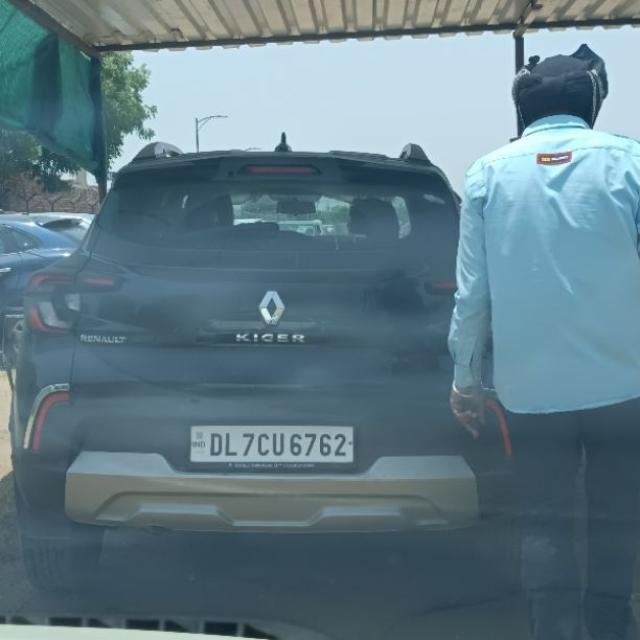license_plate: (187, 422, 355, 466)
